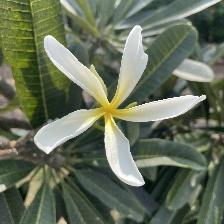champaka: (34, 27, 208, 187)
